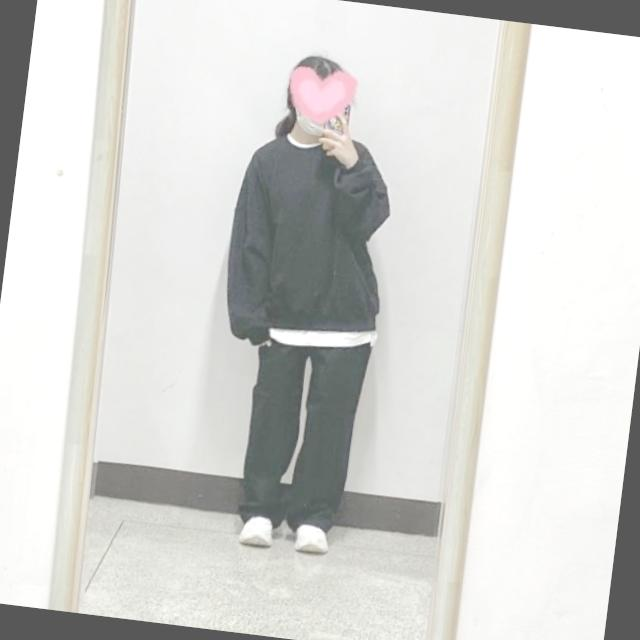mtm: (214, 118, 400, 362)
slacks: (236, 322, 372, 534)
